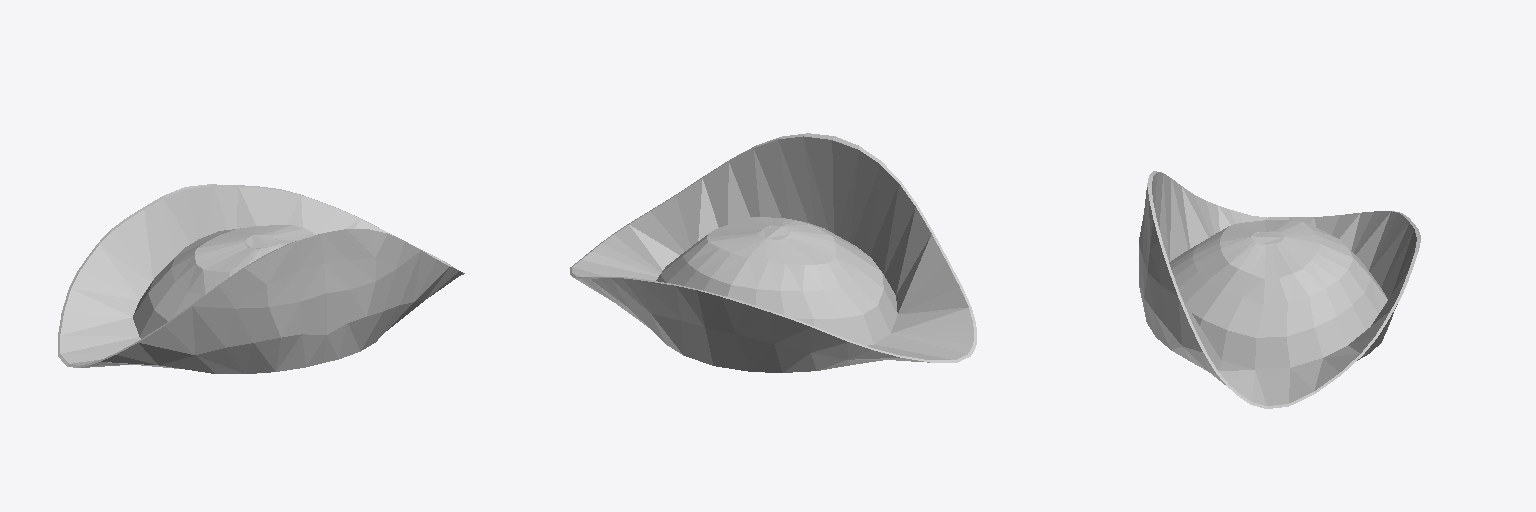
The model's file is shipMasterHat.obj.
3 renders of one model, left to right at view 1: azimuth 30°, elevation 25°; view 2: azimuth 150°, elevation 25°; view 3: azimuth 270°, elevation 25°, orthographic.
Visible parts, largest first — view 1: hat; view 2: hat; view 3: hat.
Part boxes in pixels (left/top/right/bottom): hat: left=58, top=184, right=464, bottom=373; hat: left=570, top=133, right=976, bottom=372; hat: left=1139, top=171, right=1420, bottom=408.
Bounding box in the file's own units: 132 × 45.77 × 82.28.